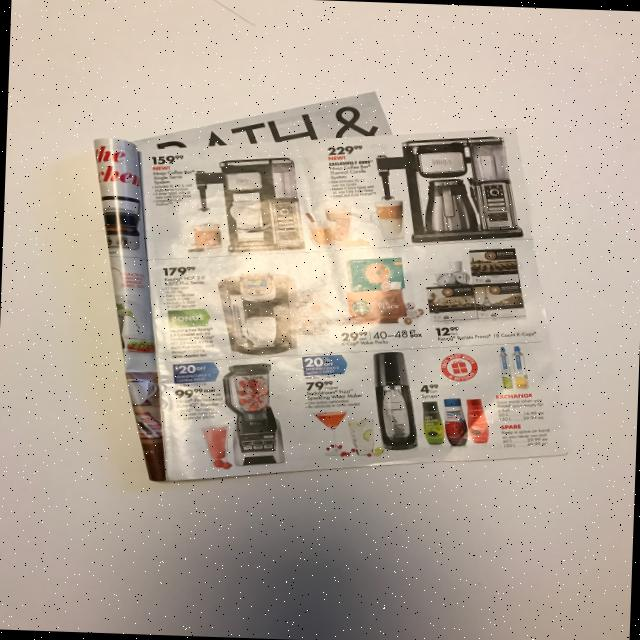paper: (92, 82, 580, 494)
